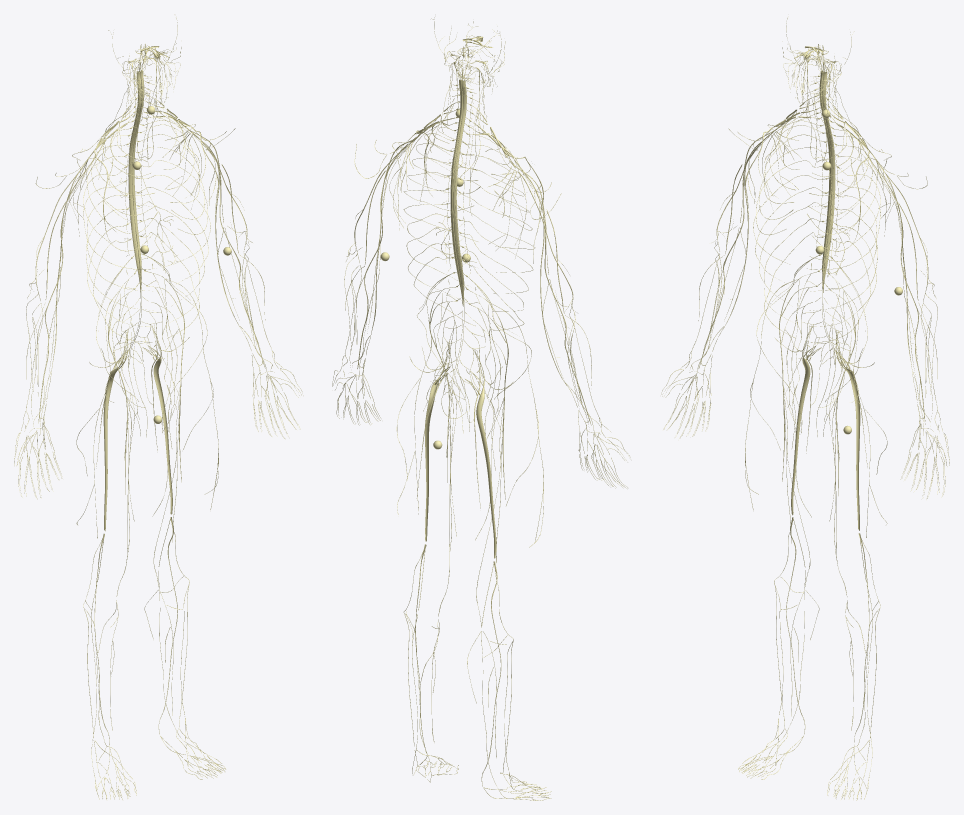
Rendered from nervous.glb.
The picture shows the model from 3 angles, left to right: view 1: azimuth 30°, elevation 25°; view 2: azimuth 150°, elevation 25°; view 3: azimuth 330°, elevation 25°; orthographic projection. The views are drawn at different scales.
Visible parts, largest first — view 1: o.nerves; view 2: o.nerves; view 3: o.nerves.
Boxes of the visible parts, left/top/right/bottom form: o.nerves: left=14, top=14, right=303, bottom=799; o.nerves: left=332, top=17, right=630, bottom=800; o.nerves: left=661, top=16, right=949, bottom=800.
Bounding box in the file's own units: 0.6504 × 1.61 × 0.1837.
